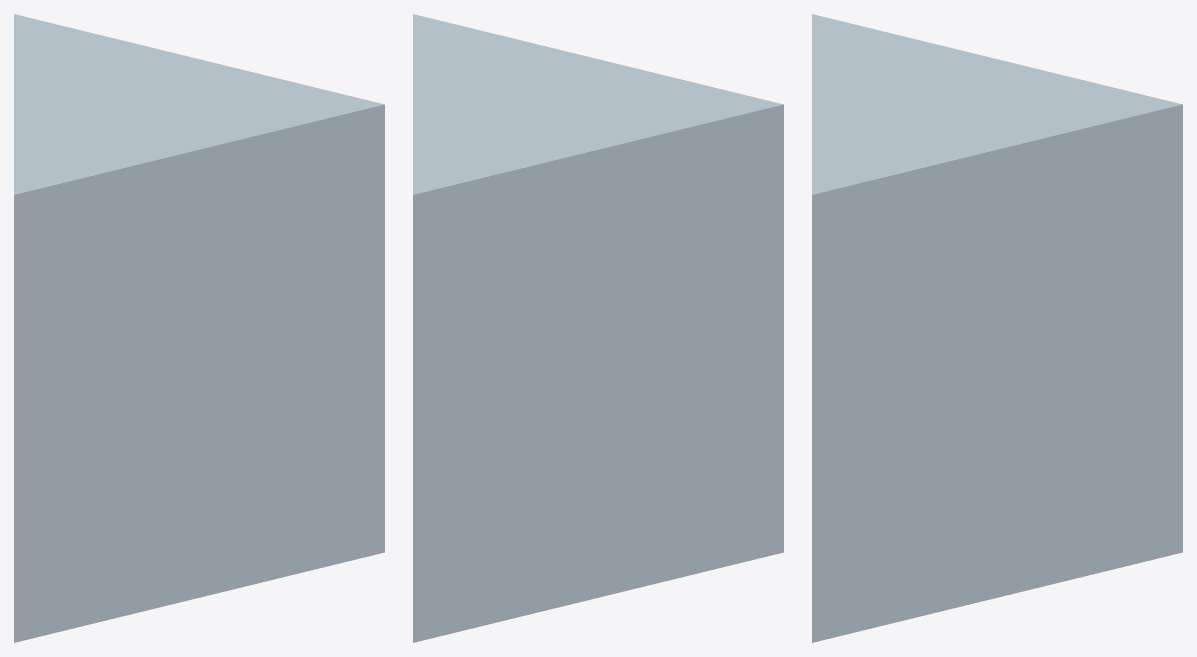
File: prism.glb
3 renders of one model, left to right at view 1: azimuth 30°, elevation 25°; view 2: azimuth 150°, elevation 25°; view 3: azimuth 270°, elevation 25°, orthographic.
Visible parts, largest first — view 1: Cylinder; view 2: Cylinder; view 3: Cylinder.
Part boxes in pixels (x1,y1,x2,y2): Cylinder: [14, 14, 384, 642]; Cylinder: [413, 14, 783, 642]; Cylinder: [812, 14, 1182, 642].
Bounding box in the file's own units: 1.73 × 2 × 1.5.
